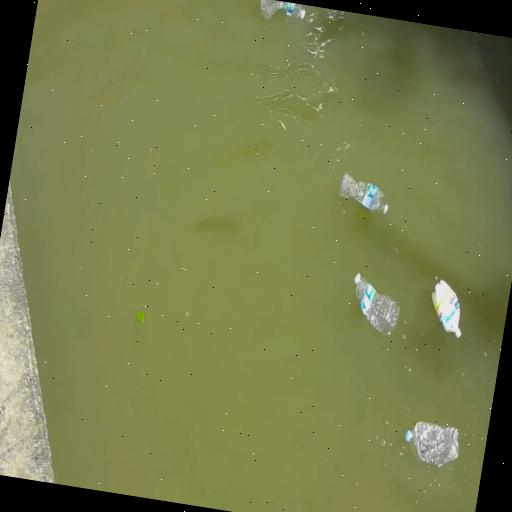plastic: (345, 270, 406, 338), (400, 417, 464, 471), (335, 168, 393, 216), (424, 275, 468, 338), (256, 0, 308, 26)
